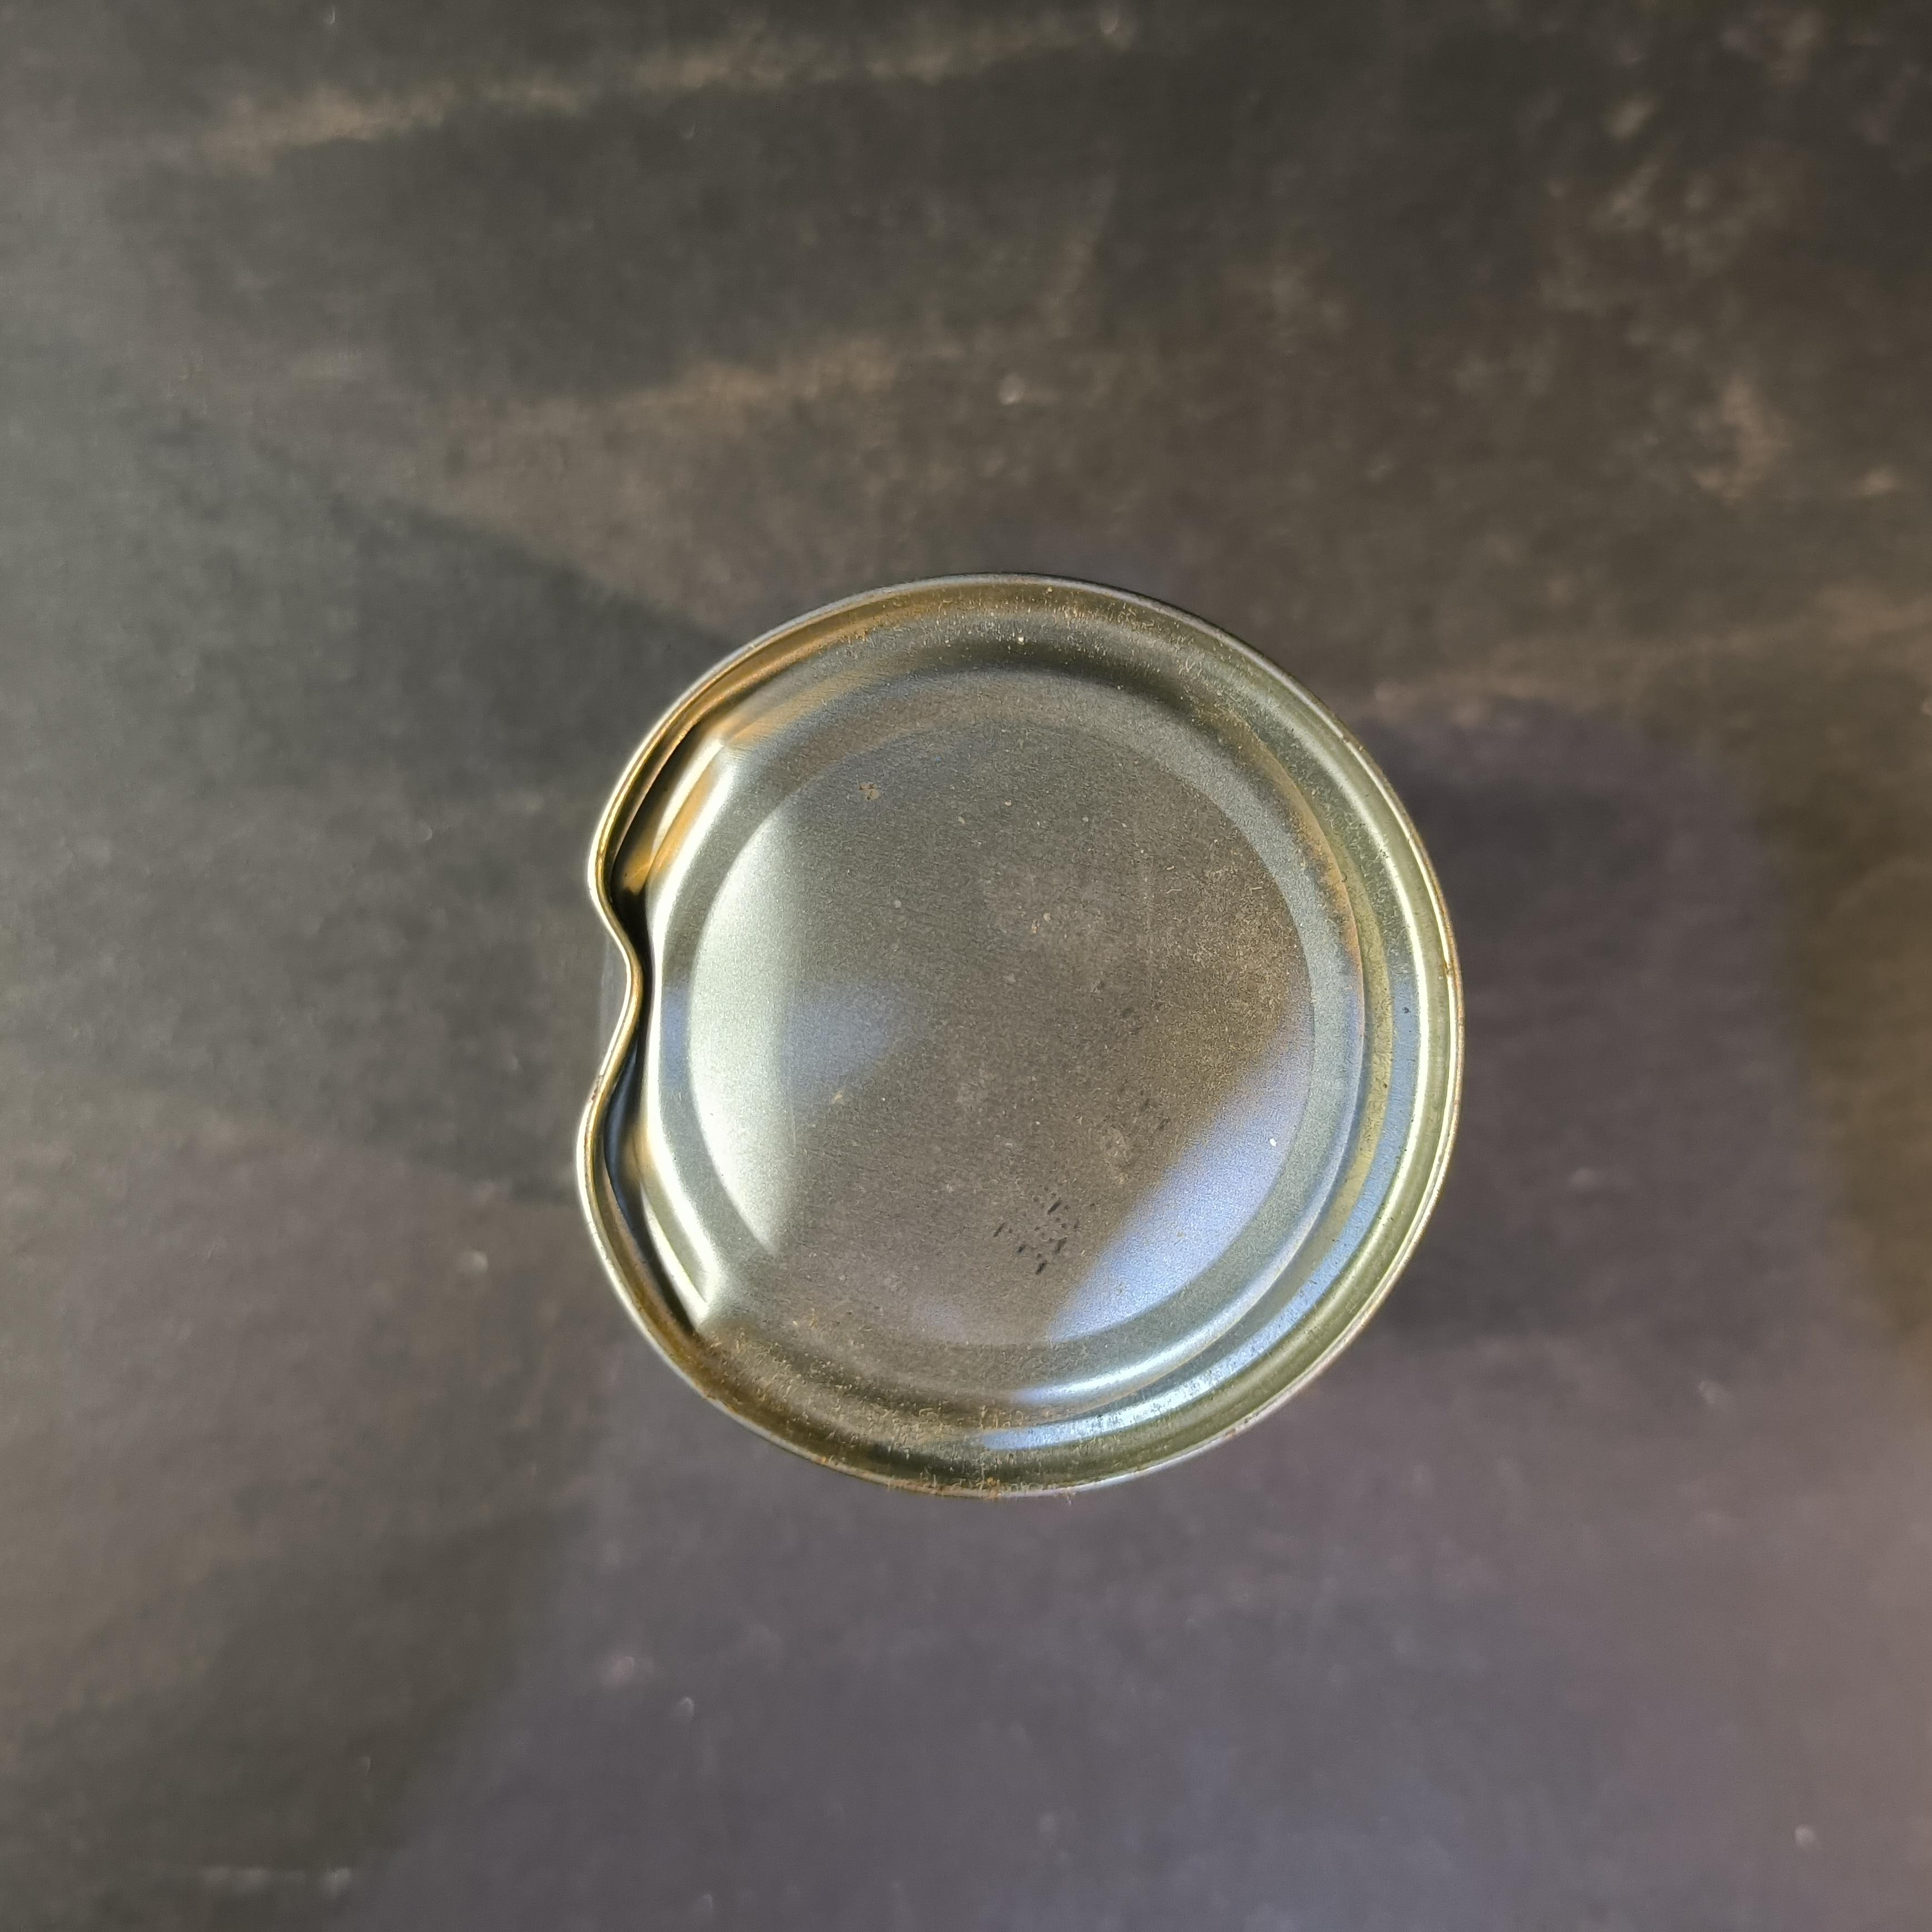Critical Defect: (570, 568, 1468, 1511)
